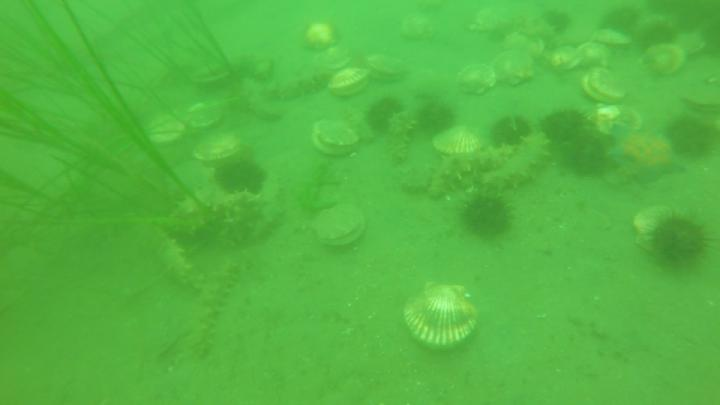echinus: (645, 209, 716, 273), (455, 188, 516, 245), (557, 126, 614, 180), (662, 111, 720, 164), (216, 152, 267, 197), (412, 99, 461, 139), (543, 105, 587, 149), (631, 19, 682, 56), (366, 93, 408, 133), (488, 114, 533, 150), (598, 6, 640, 36), (696, 9, 720, 58), (646, 1, 698, 20)
holothurian: (186, 258, 245, 358), (426, 143, 516, 203), (471, 129, 552, 192), (150, 227, 210, 294), (250, 167, 291, 242), (166, 183, 226, 229), (270, 69, 340, 103), (241, 77, 289, 121), (211, 190, 267, 223), (389, 108, 418, 165), (341, 100, 375, 144)
scallop: (402, 281, 484, 354), (628, 198, 679, 258), (311, 203, 373, 251), (160, 162, 223, 203), (579, 65, 630, 111), (311, 119, 363, 161), (452, 58, 500, 101), (496, 46, 540, 92), (641, 42, 688, 83), (190, 128, 243, 164), (592, 104, 646, 139), (430, 124, 484, 156), (146, 110, 192, 147), (500, 29, 548, 64), (361, 54, 415, 85), (397, 10, 443, 46), (330, 65, 376, 101), (192, 54, 238, 88), (302, 19, 342, 54), (574, 39, 619, 68), (545, 44, 583, 76), (589, 28, 634, 48)
starfish: (612, 125, 685, 187)
waterweeds: (2, 1, 223, 245), (85, 1, 232, 100)
